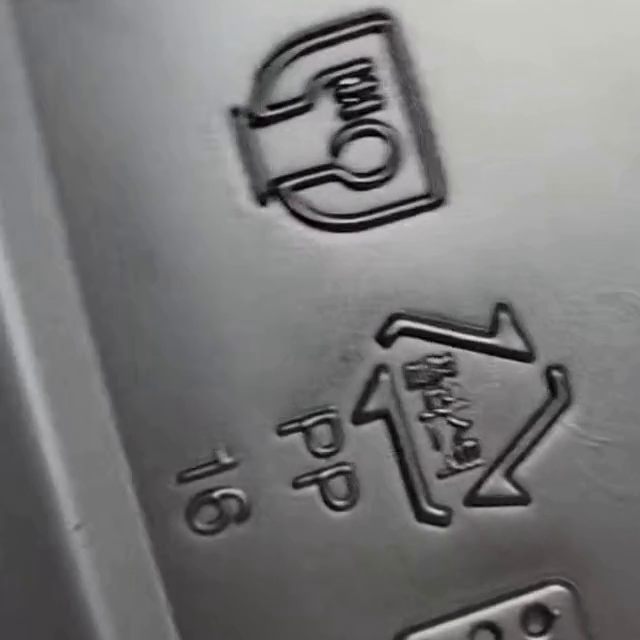Plastic: (351, 302, 574, 530)
